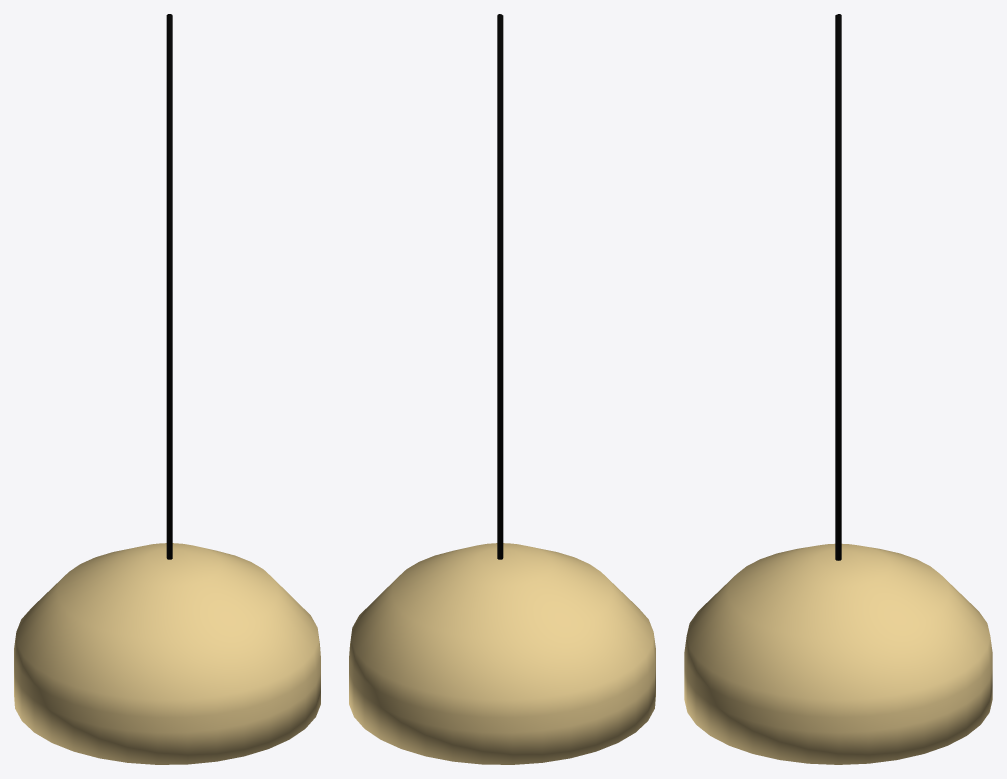
Rendered from lamp.fbx.
The picture shows the model from 3 angles, left to right: view 1: azimuth 30°, elevation 25°; view 2: azimuth 150°, elevation 25°; view 3: azimuth 270°, elevation 25°; orthographic projection.
Parts seen in each view (by area): view 1: Lamp; view 2: Lamp; view 3: Lamp.
Boxes of the visible parts, x1=… form: Lamp: x1=14, y1=14, x2=320, y2=764; Lamp: x1=349, y1=14, x2=655, y2=764; Lamp: x1=684, y1=14, x2=992, y2=764.
Size of the model in its own units: 103 by 103 by 252.
